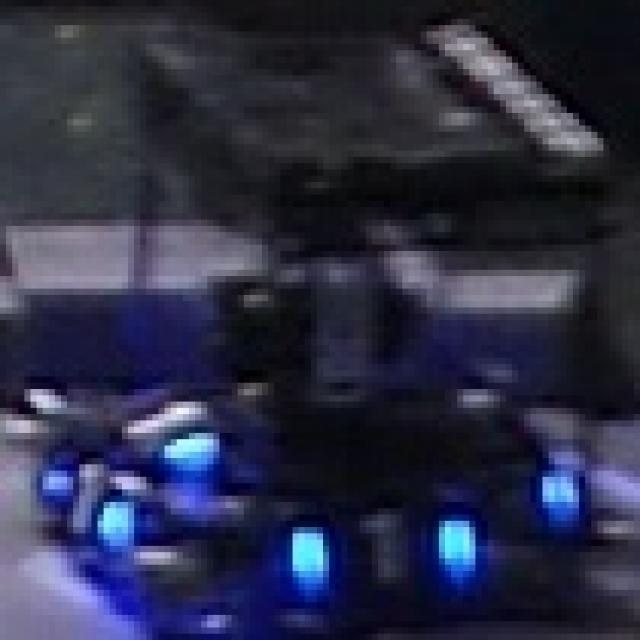B1: (278, 499, 484, 599), (24, 448, 140, 562), (98, 380, 232, 468)
